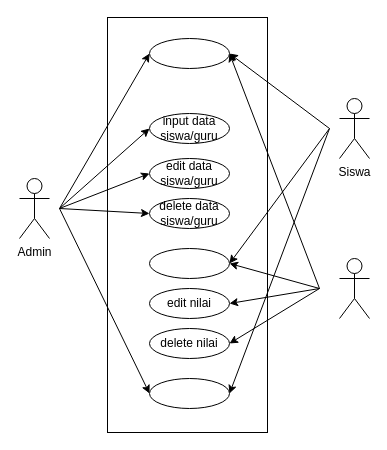
This 387x450 diagram has some shape labels left out. Each missing label, with the centre of its shape:
"Guru" goes at (x=354, y=288).
"lihat nilai" goes at (x=189, y=263).
"login" goes at (x=189, y=53).
"logout" goes at (x=189, y=393).
